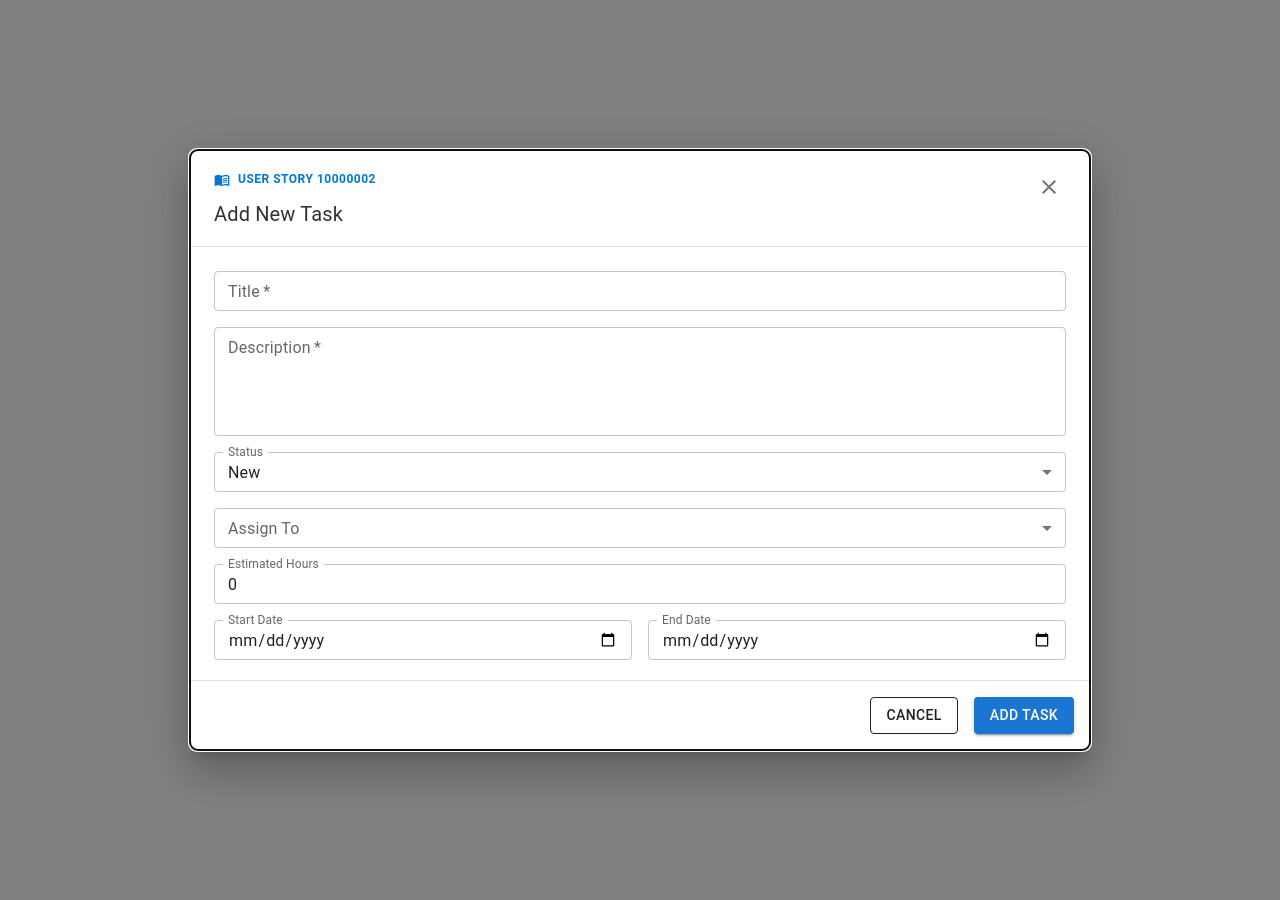
Test case: TaskDetailsDialog › Add mode (task=null) › shows validation error when description is empty and save is clicked
Type "My task" into the field labelled "Title *".
click(640, 291); type("My task")  # box [214,271,1066,311]
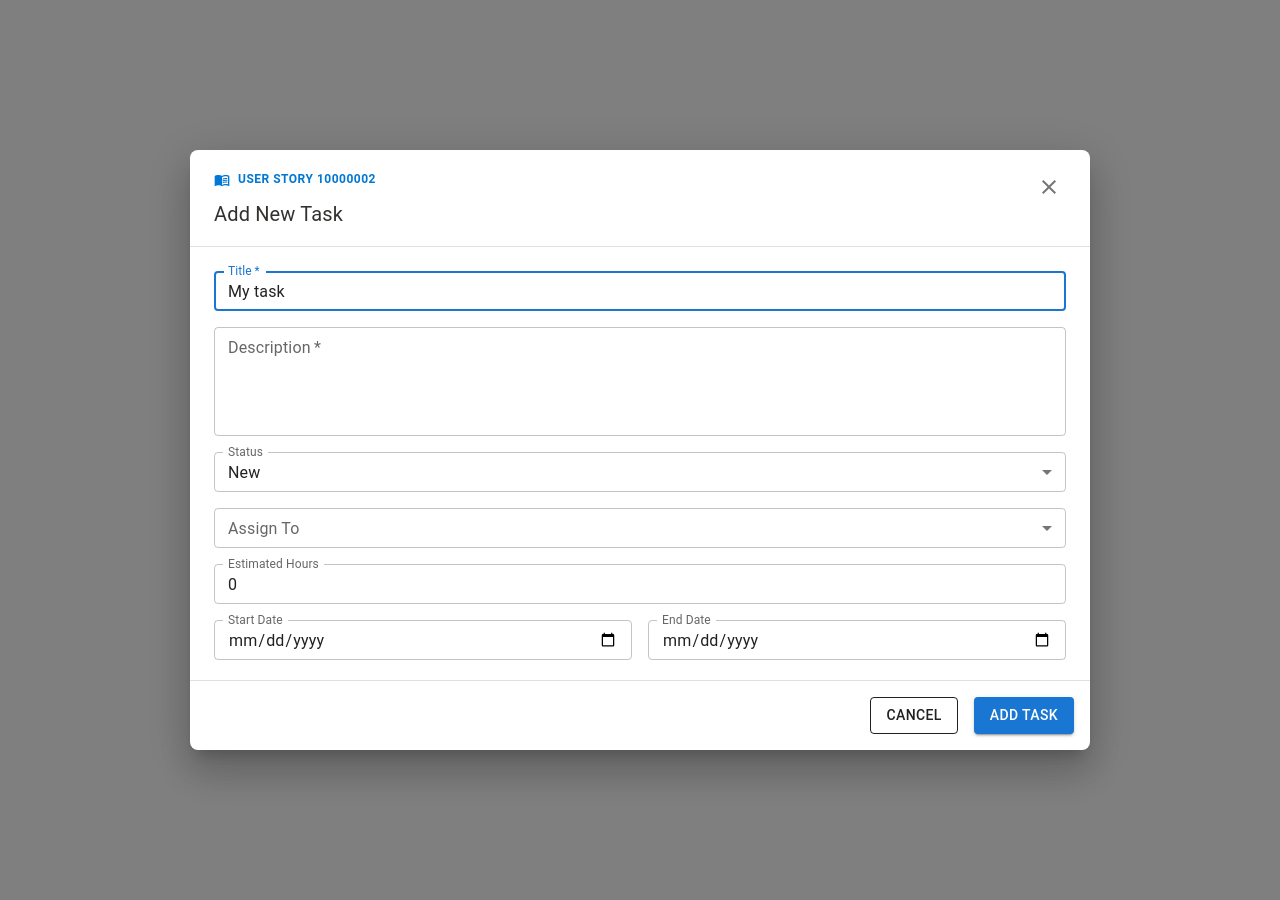
Click the button "Add Task".
click(1024, 715)  # box [974,697,1074,734]
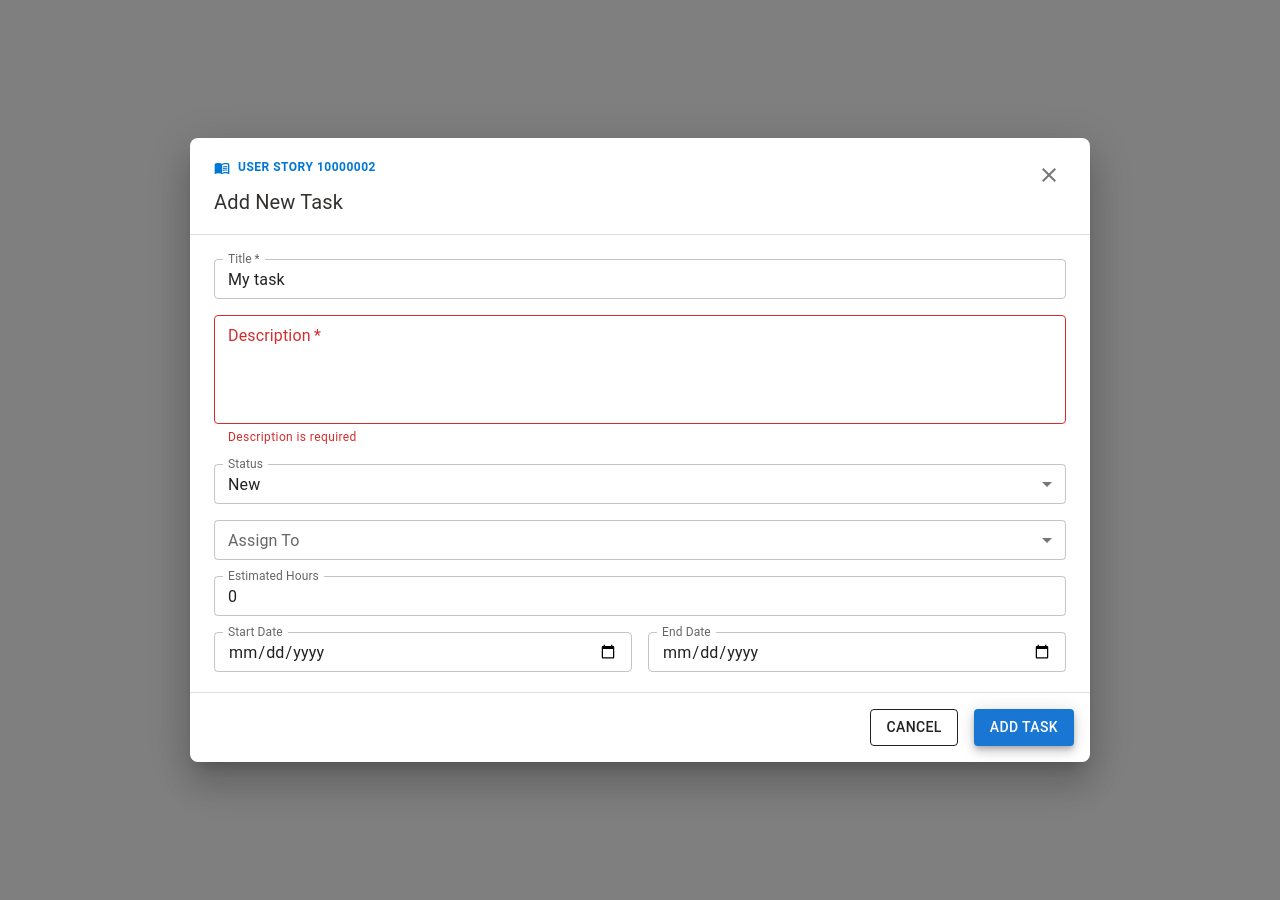
Expected: the text "Description is required" is shown, [228,430,357,444]
